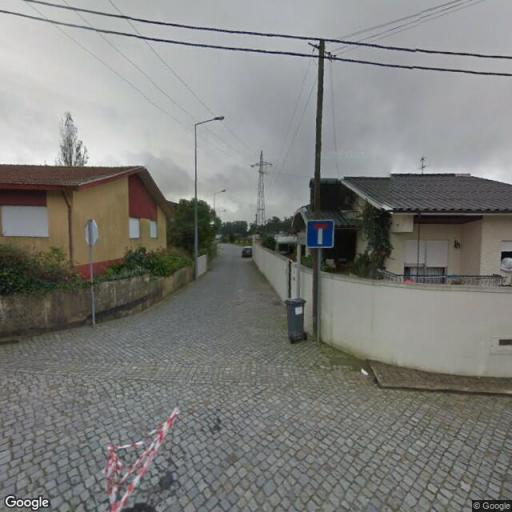ss_1: (252, 149, 273, 227)
